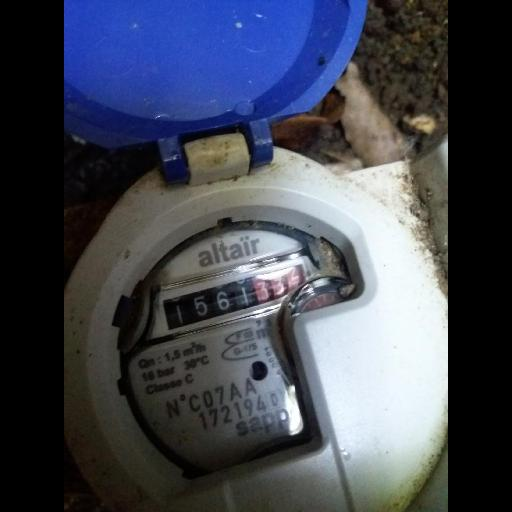1: (162, 295, 192, 331), (231, 277, 259, 310)
2: (282, 265, 307, 294)
3: (251, 272, 275, 304), (268, 269, 290, 300)
5: (183, 288, 216, 324)
6: (208, 282, 239, 317)
border_water_meter_number: (133, 254, 323, 343)
